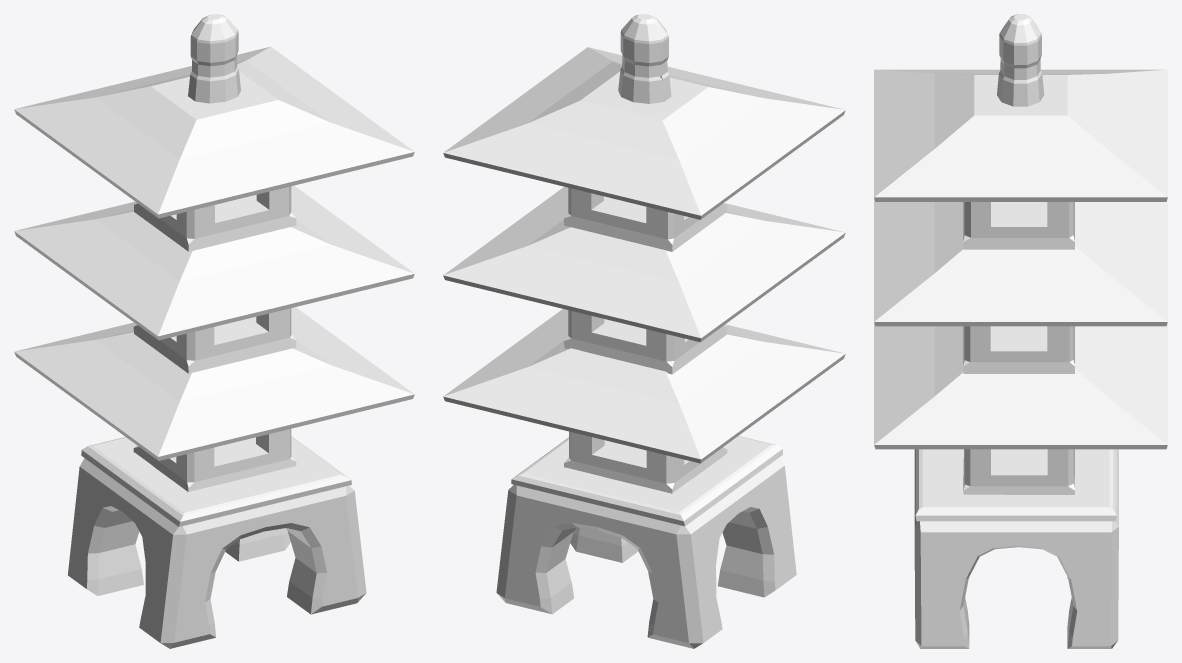
The model's file is Laterne_stein_groß.fbx.
The picture shows the model from 3 angles, left to right: view 1: azimuth 30°, elevation 25°; view 2: azimuth 150°, elevation 25°; view 3: azimuth 270°, elevation 25°; orthographic projection. The views are drawn at different scales.
Visible parts, largest first — view 1: Cylinder.004; view 2: Cylinder.004; view 3: Cylinder.004.
Boxes of the visible parts, <box> form: Cylinder.004: <box>14,14,414,648</box>; Cylinder.004: <box>443,14,845,648</box>; Cylinder.004: <box>874,14,1167,648</box>.
Size of the model in its own units: 404 by 861 by 392.
